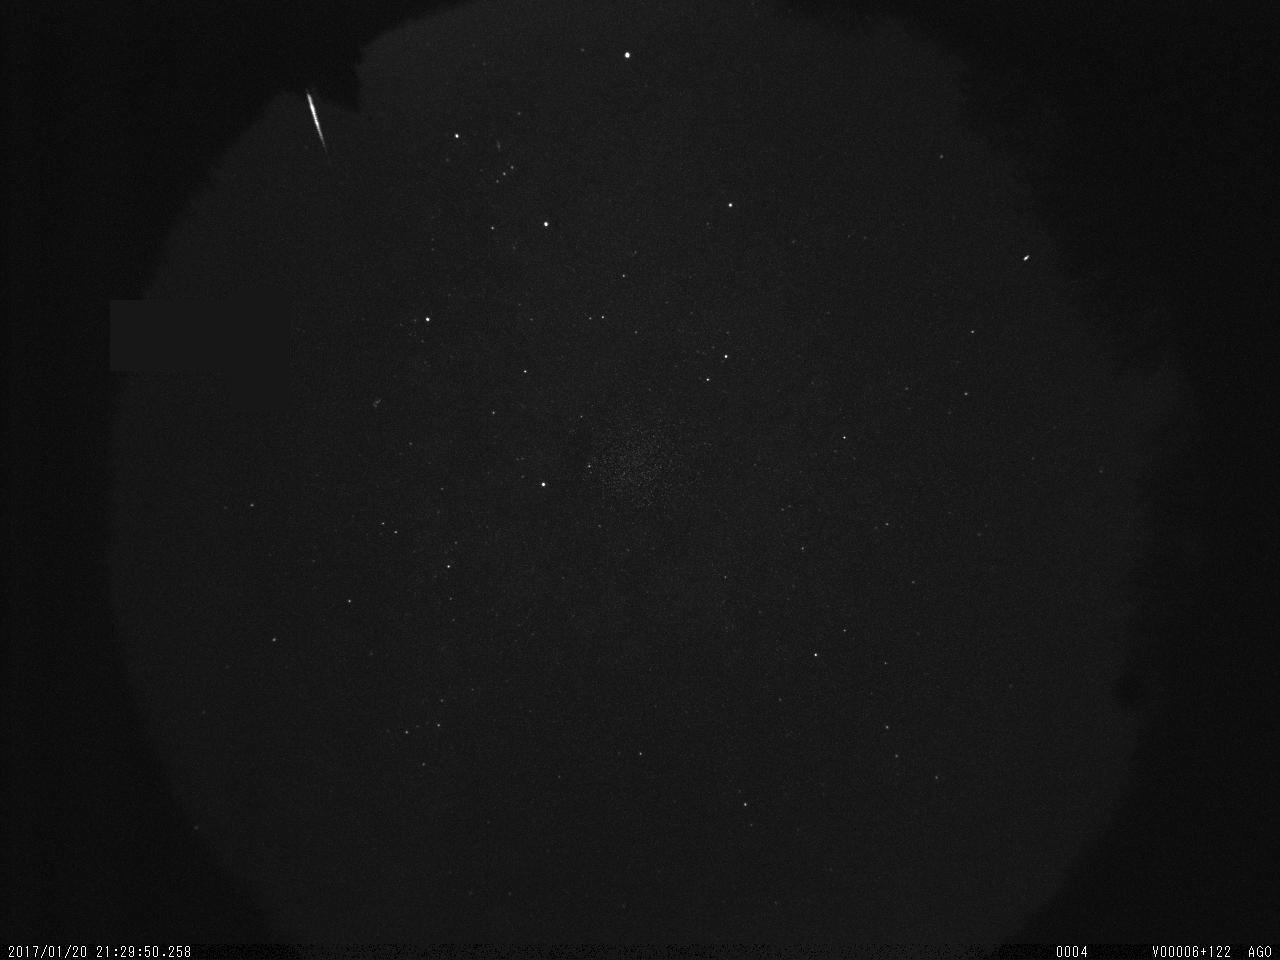meteor: (296, 86, 338, 172)
